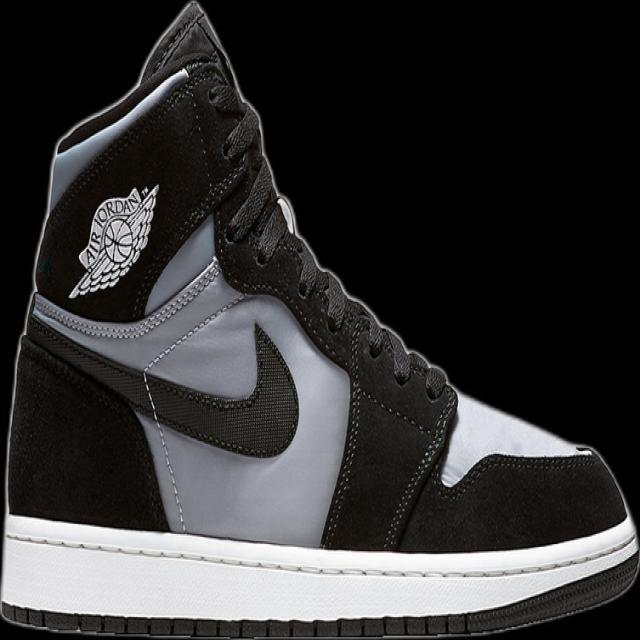J1_InsoleChar: (0, 0, 638, 639)
J1_ShoeLogo: (66, 182, 160, 300)
J1_StitchPattern: (234, 189, 460, 548), (1, 521, 637, 637), (24, 306, 298, 457), (257, 193, 447, 402), (24, 307, 192, 533), (2, 526, 637, 582), (1, 602, 470, 639), (29, 255, 221, 341), (379, 391, 458, 551), (139, 368, 190, 534), (451, 445, 600, 487)
